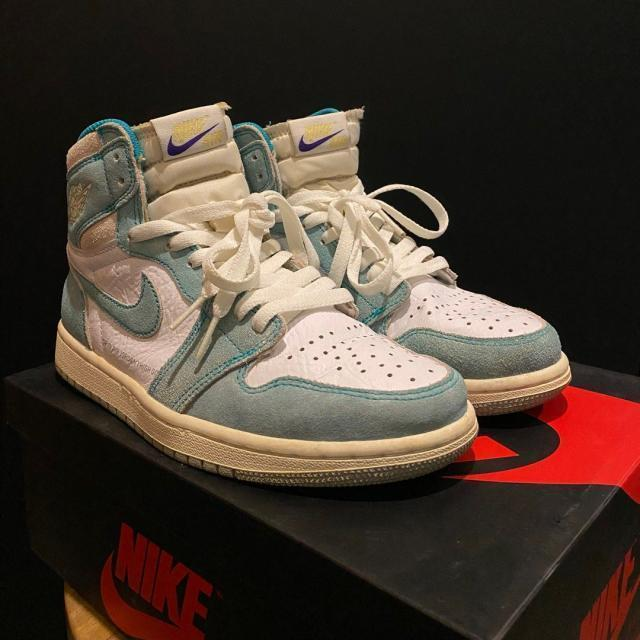nike original jordan 1: (52, 103, 480, 488), (207, 100, 576, 408)
